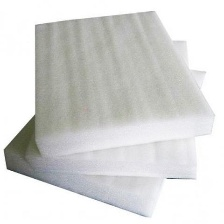foam_box: (0, 64, 209, 220), (28, 6, 219, 163), (21, 34, 199, 182)
